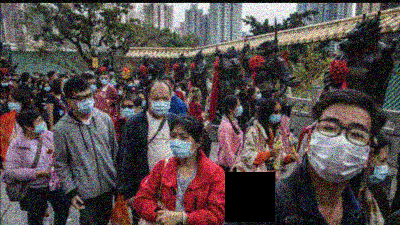mask_weared_incorrect: (176, 86, 181, 91)
with_mask: (308, 114, 372, 183), (169, 129, 195, 159), (365, 155, 389, 184), (149, 93, 172, 115), (73, 91, 94, 113), (7, 97, 22, 112), (122, 101, 136, 117), (269, 107, 283, 123), (33, 117, 45, 132), (234, 101, 244, 116), (88, 80, 97, 92), (138, 95, 146, 107), (254, 89, 262, 99), (100, 75, 108, 84), (43, 84, 51, 91), (117, 87, 124, 95), (1, 79, 8, 85), (128, 80, 133, 86)
